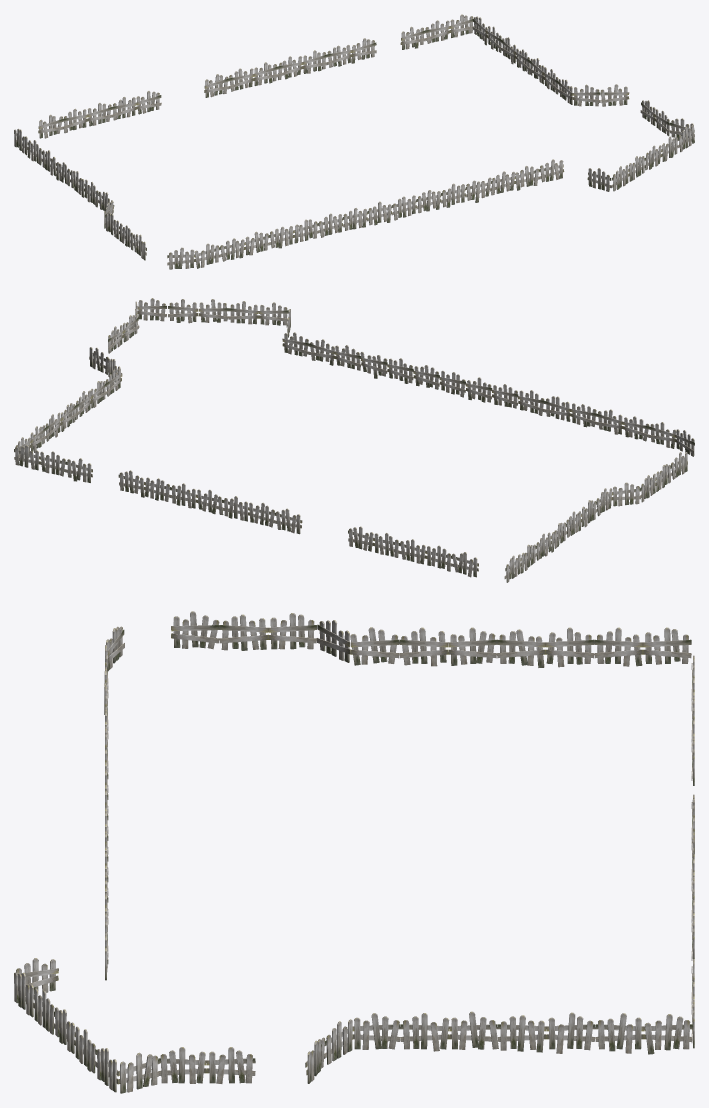
Rendered from Fence_Combinated.fbx.
3 renders of one model, top to bottom at view 1: azimuth 30°, elevation 25°; view 2: azimuth 150°, elevation 25°; view 3: azimuth 270°, elevation 25°, orthographic. The views are drawn at different scales.
Parts seen in each view (by area): view 1: Fence; view 2: Fence; view 3: Fence.
Part boxes in pixels (x1,y1,x2,y2): Fence: (14, 14, 694, 269); Fence: (14, 298, 694, 582); Fence: (14, 611, 694, 1093).
Bounding box in the file's own units: 5406 × 248 × 3481.
